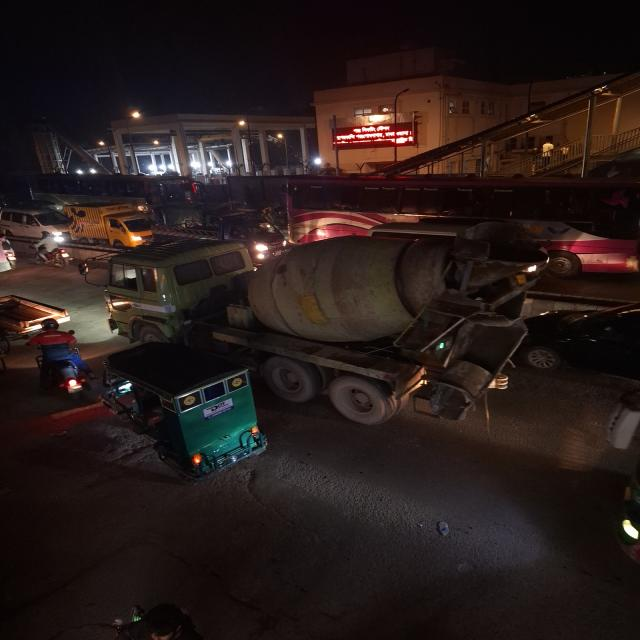bus: (0, 203, 74, 240)
car: (1, 203, 73, 240)
motorcycle: (26, 324, 93, 398), (30, 234, 69, 269), (0, 232, 21, 270)
rickshaw: (98, 336, 272, 484)
truck: (111, 231, 535, 431), (76, 202, 154, 247)
